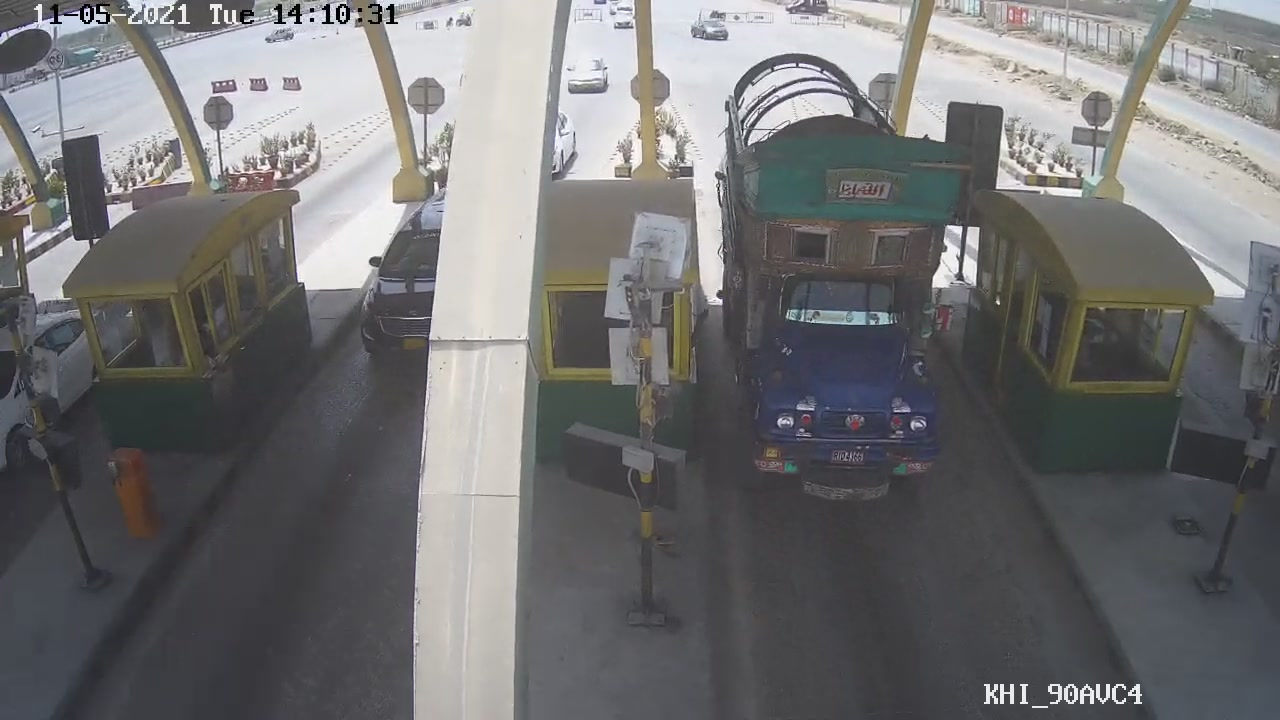F5: (713, 81, 980, 509)
